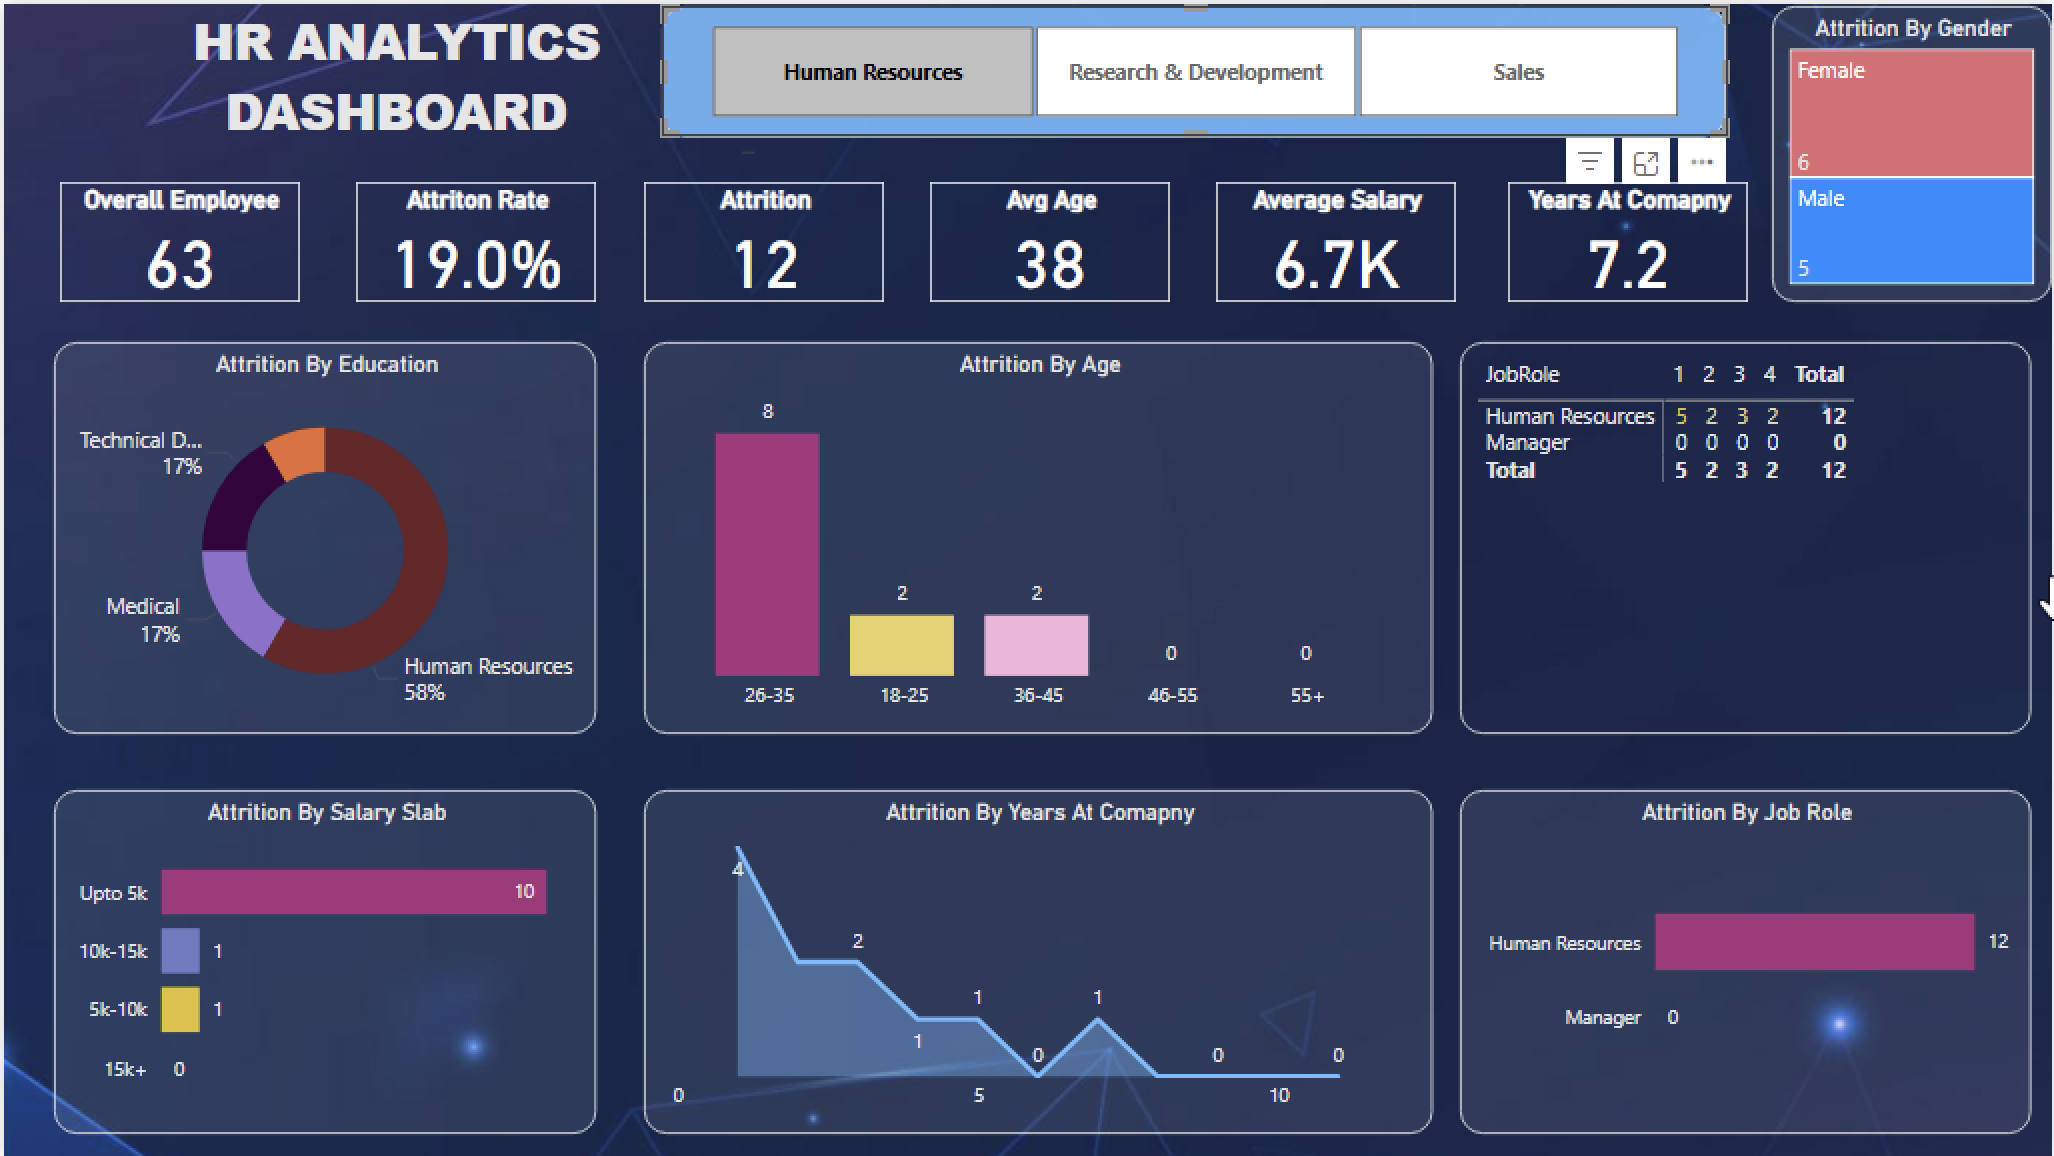

The dashboard page shown, as its layout file describes it:
{"tool":"powerbi","page":{"name":"Page 1","canvas":[1280,720],"ordinal":0},"visuals":[{"type":"card","title":"Overall Employee","fields":{"Values":["CountNonNull(HR_Analytics.EmpID)"]},"box":[34.4,110.9,150.4,75.2],"z":0},{"type":"card","title":"Attriton Rate","fields":{"Values":["HR_Analytics.Attrition Rate"]},"box":[220.6,110.9,150.4,75.2],"z":1},{"type":"card","title":"Attrition","fields":{"Values":["Sum(HR_Analytics.Attrition Count)"]},"box":[400.3,110.9,150.4,75.2],"z":2},{"type":"card","title":"Avg Age","fields":{"Values":["Avg(HR_Analytics.Age)"]},"box":[578.8,110.9,150.4,75.2],"z":3},{"type":"card","title":"Average Salary","fields":{"Values":["Avg(HR_Analytics.MonthlyIncome)"]},"box":[757.3,110.9,150.4,75.2],"z":4},{"type":"card","title":"Years At Comapny","fields":{"Values":["Avg(HR_Analytics.YearsAtCompany)"]},"box":[939.6,110.9,150.4,75.2],"z":5},{"type":"donutChart","title":"Attrition By Education","fields":{"Category":["HR_Analytics.EducationField"],"Y":["Sum(HR_Analytics.Attrition Count)"]},"box":[31.9,211.6,339.1,244.8],"z":6},{"type":"columnChart","title":"Attrition By Age","fields":{"Y":["Sum(HR_Analytics.Attrition Count)"],"Category":["HR_Analytics.AgeGroup"]},"box":[400.3,211.6,493.4,244.8],"z":7},{"type":"pivotTable","fields":{"Rows":["HR_Analytics.JobRole"],"Columns":["HR_Analytics.JobSatisfaction"],"Values":["Sum(HR_Analytics.Attrition Count)"]},"box":[910.3,211.6,357,244.8],"z":8},{"type":"barChart","title":"Attrition By Salary Slab","fields":{"Category":["HR_Analytics.SalarySlab"],"Y":["Sum(HR_Analytics.Attrition Count)"]},"box":[31.9,490.8,339.1,215.5],"z":9},{"type":"barChart","title":"Attrition By Job Role","fields":{"Category":["HR_Analytics.JobRole"],"Y":["Sum(HR_Analytics.Attrition Count)"]},"box":[910.3,490.8,357,215.5],"z":10},{"type":"areaChart","title":"Attrition By Years At Comapny","fields":{"Category":["HR_Analytics.YearsAtCompany"],"Y":["Sum(HR_Analytics.Attrition Count)"]},"box":[400.3,490.8,493.4,215.5],"z":11},{"type":"treemap","title":"Attrition By Gender","fields":{"Group":["HR_Analytics.Gender"],"Values":["Sum(HR_Analytics.Attrition Count)"]},"box":[1105.3,1.3,174.7,184.9],"z":12},{"type":"slicer","fields":{"Values":["HR_Analytics.Department"]},"box":[411.8,1.3,665.5,81.6],"z":13},{"type":"textbox","title":"HR ANALYTICS DASHBOARD","box":[16.6,1.3,457.7,96.9],"z":14}]}

Visuals, with their boxes in screenshot pixels (x1, y1, x2, y2), scaled from the page's 1280x720 canvas onto the 2054x1156 screenshot:
"Overall Employee" card: {"x1": 55, "y1": 178, "x2": 297, "y2": 299}
"Attriton Rate" card: {"x1": 354, "y1": 178, "x2": 595, "y2": 299}
"Attrition" card: {"x1": 642, "y1": 178, "x2": 884, "y2": 299}
"Avg Age" card: {"x1": 929, "y1": 178, "x2": 1170, "y2": 299}
"Average Salary" card: {"x1": 1215, "y1": 178, "x2": 1457, "y2": 299}
"Years At Comapny" card: {"x1": 1508, "y1": 178, "x2": 1749, "y2": 299}
"Attrition By Education" donutChart: {"x1": 51, "y1": 340, "x2": 595, "y2": 733}
"Attrition By Age" columnChart: {"x1": 642, "y1": 340, "x2": 1434, "y2": 733}
pivotTable - HR_Analytics.JobRole x HR_Analytics.JobSatisfaction: {"x1": 1461, "y1": 340, "x2": 2034, "y2": 733}
"Attrition By Salary Slab" barChart: {"x1": 51, "y1": 788, "x2": 595, "y2": 1134}
"Attrition By Job Role" barChart: {"x1": 1461, "y1": 788, "x2": 2034, "y2": 1134}
"Attrition By Years At Comapny" areaChart: {"x1": 642, "y1": 788, "x2": 1434, "y2": 1134}
"Attrition By Gender" treemap: {"x1": 1774, "y1": 2, "x2": 2053, "y2": 299}
slicer - HR_Analytics.Department: {"x1": 661, "y1": 2, "x2": 1729, "y2": 133}
"HR ANALYTICS DASHBOARD" textbox: {"x1": 27, "y1": 2, "x2": 761, "y2": 158}
